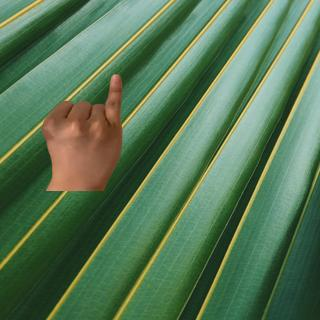FINE: (38, 67, 127, 181)
